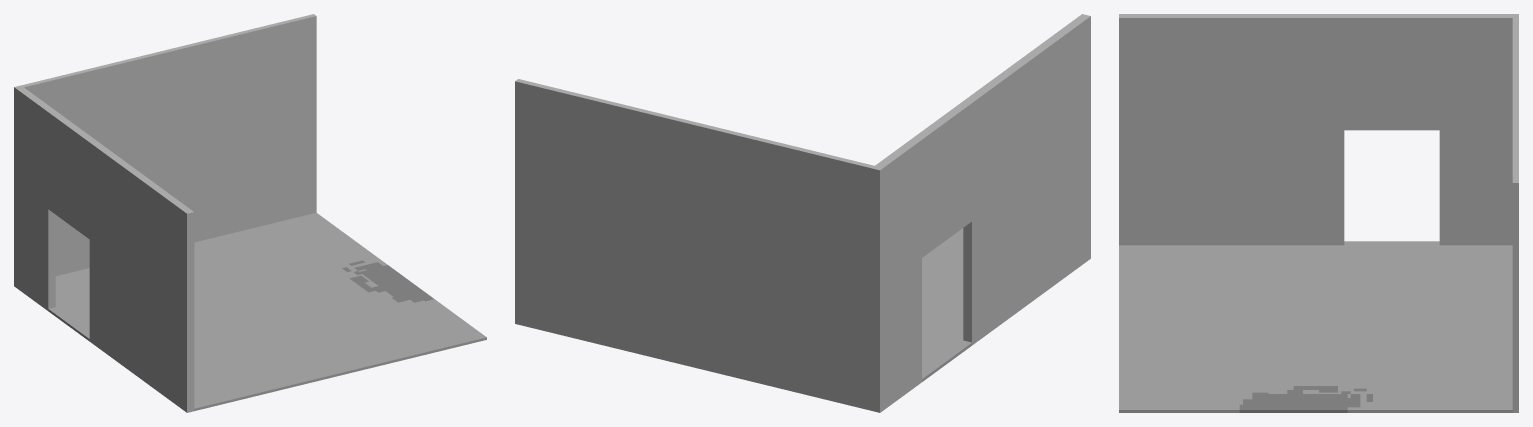
File: 4x2 first (1)-12.obj
3 views of the same model, side by side, from view 1: azimuth 30°, elevation 25°; view 2: azimuth 150°, elevation 25°; view 3: azimuth 270°, elevation 25° (orthographic). The views are drawn at different scales.
Parts seen in each view (by area): view 1: 4x2 first (1)-4; view 2: 4x2 first (1)-4; view 3: 4x2 first (1)-4.
Part boxes in pixels (x1,y1,x2,y2): 4x2 first (1)-4: [14, 14, 486, 412]; 4x2 first (1)-4: [515, 14, 1090, 412]; 4x2 first (1)-4: [1119, 14, 1518, 412].
Bounding box in the file's own units: 126 × 80 × 126.
Materials: 1 (1 with a texture image).
